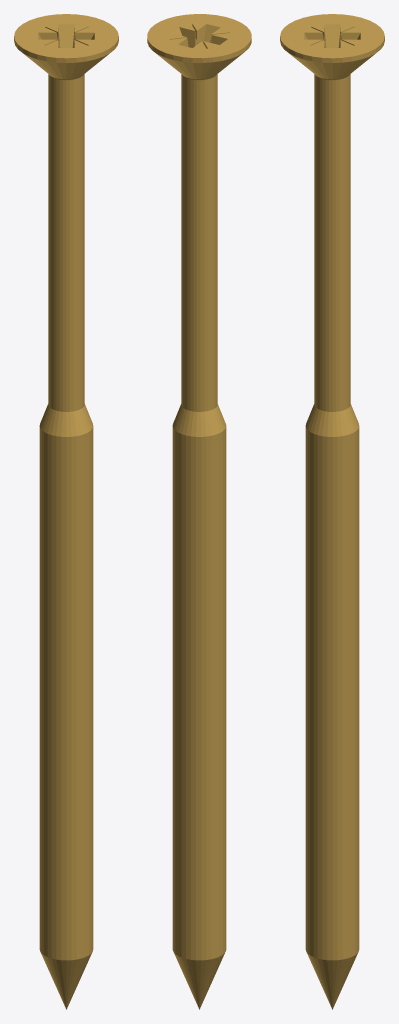
Rendered from model_display.glb.
The picture shows the model from 3 angles, left to right: view 1: azimuth 90°, elevation 25°; view 2: azimuth 150°, elevation 25°; view 3: azimuth 270°, elevation 25°; orthographic projection.
Parts seen in each view (by area): view 1: geometry_0; view 2: geometry_0; view 3: geometry_0.
Boxes of the visible parts, x1=… form: geometry_0: x1=14, y1=14, x2=118, y2=1009; geometry_0: x1=147, y1=14, x2=251, y2=1009; geometry_0: x1=280, y1=14, x2=384, y2=1009.
Bounding box in the file's own units: 0.00975 × 0.1 × 0.00975.
